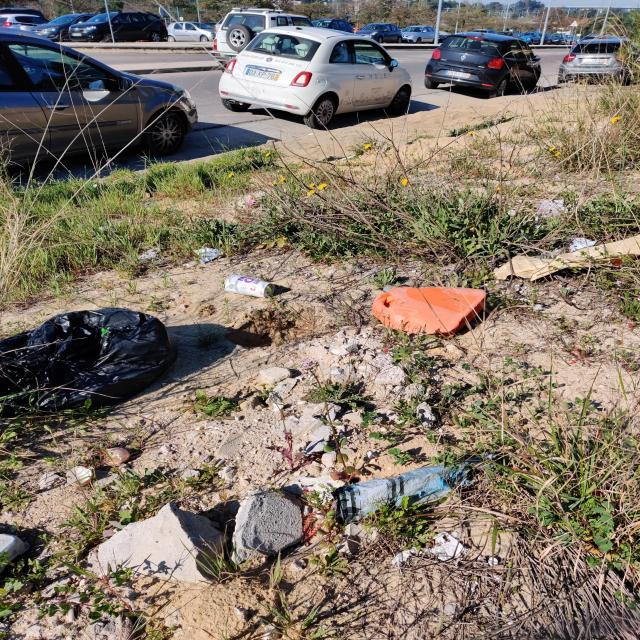litter: (0, 307, 177, 413), (336, 454, 489, 526), (491, 235, 640, 282), (373, 284, 488, 339), (224, 274, 275, 298), (534, 198, 567, 221), (66, 466, 93, 486), (193, 247, 224, 264), (103, 448, 129, 466), (570, 237, 596, 252)
